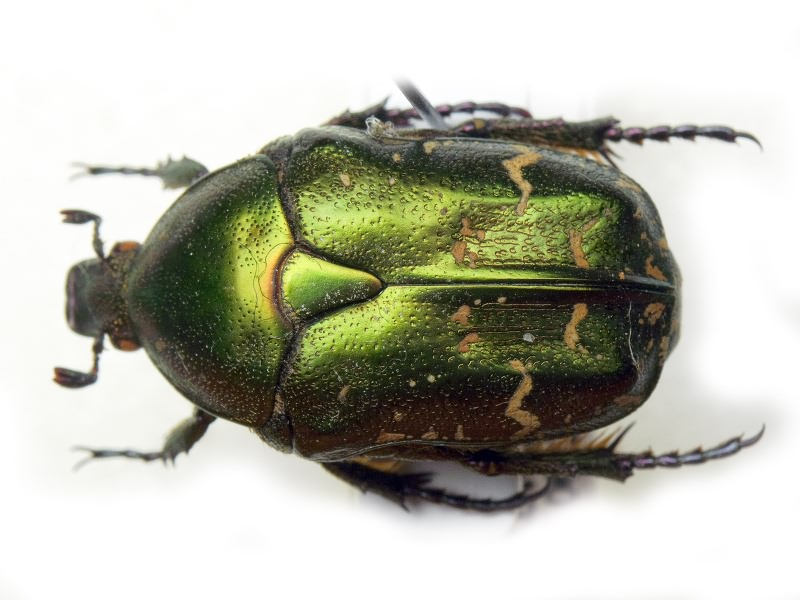Protaetia_metallica: (31, 57, 780, 536)
